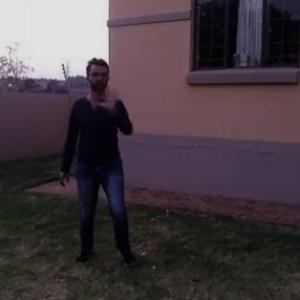follow_hand: (97, 81, 129, 112)
